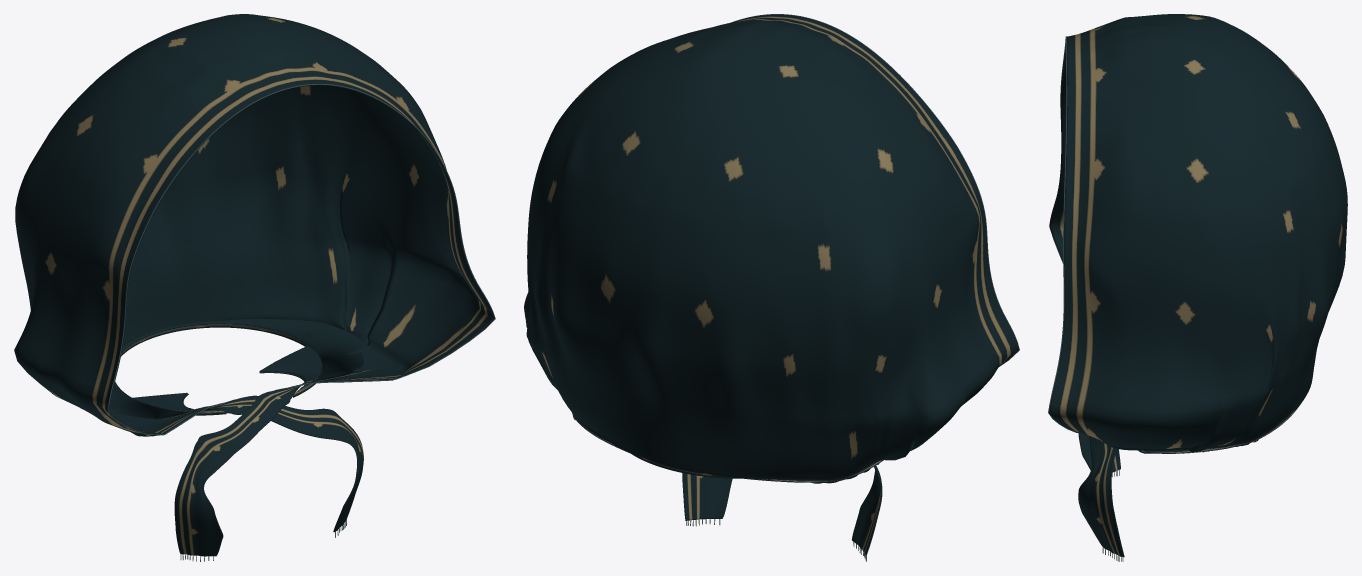
Rendered from Feminine-side-sweep-open-pashmina249-headgear.glb.
3 views of the same model, side by side, from view 1: azimuth 30°, elevation 25°; view 2: azimuth 150°, elevation 25°; view 3: azimuth 270°, elevation 25° (orthographic). The views are drawn at different scales.
Visible parts, largest first — view 1: 226 headgear / Headwear / continuous woven pashmina239, 226 headgear / Headwear / face edge239; view 2: 226 headgear / Headwear / continuous woven pashmina239, 226 headgear / Headwear / face edge239; view 3: 226 headgear / Headwear / continuous woven pashmina239, 226 headgear / Headwear / face edge239.
Part boxes in pixels (x1,y1,x2,y2): 226 headgear / Headwear / continuous woven pashmina239: [14, 14, 494, 556]; 226 headgear / Headwear / face edge239: [107, 84, 495, 435]; 226 headgear / Headwear / continuous woven pashmina239: [524, 14, 1018, 555]; 226 headgear / Headwear / face edge239: [731, 14, 1019, 365]; 226 headgear / Headwear / continuous woven pashmina239: [1049, 14, 1347, 557]; 226 headgear / Headwear / face edge239: [1048, 36, 1079, 432].
Bounding box in the file's own units: 1.23 × 1.41 × 0.7779.
3 materials, 1 textured.
